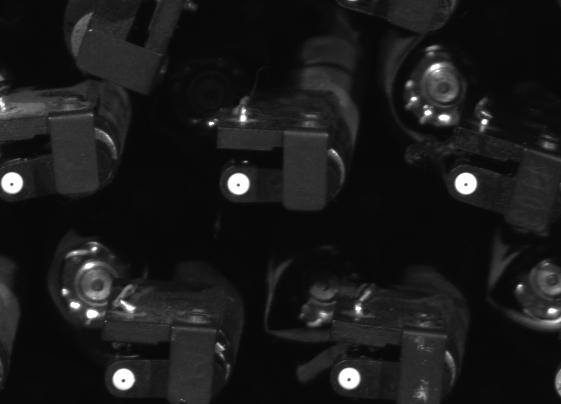fiber: (447, 168, 486, 200), (108, 364, 142, 396), (333, 362, 366, 394), (222, 169, 255, 200), (1, 168, 27, 197)
